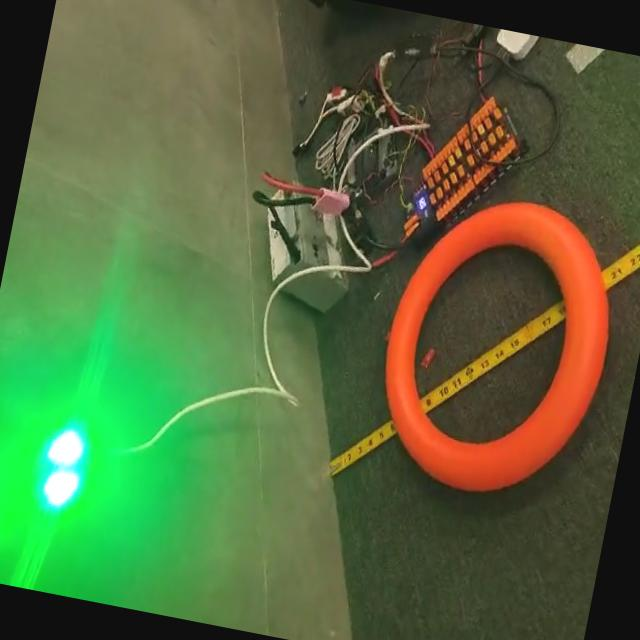note: (359, 181, 635, 514)
